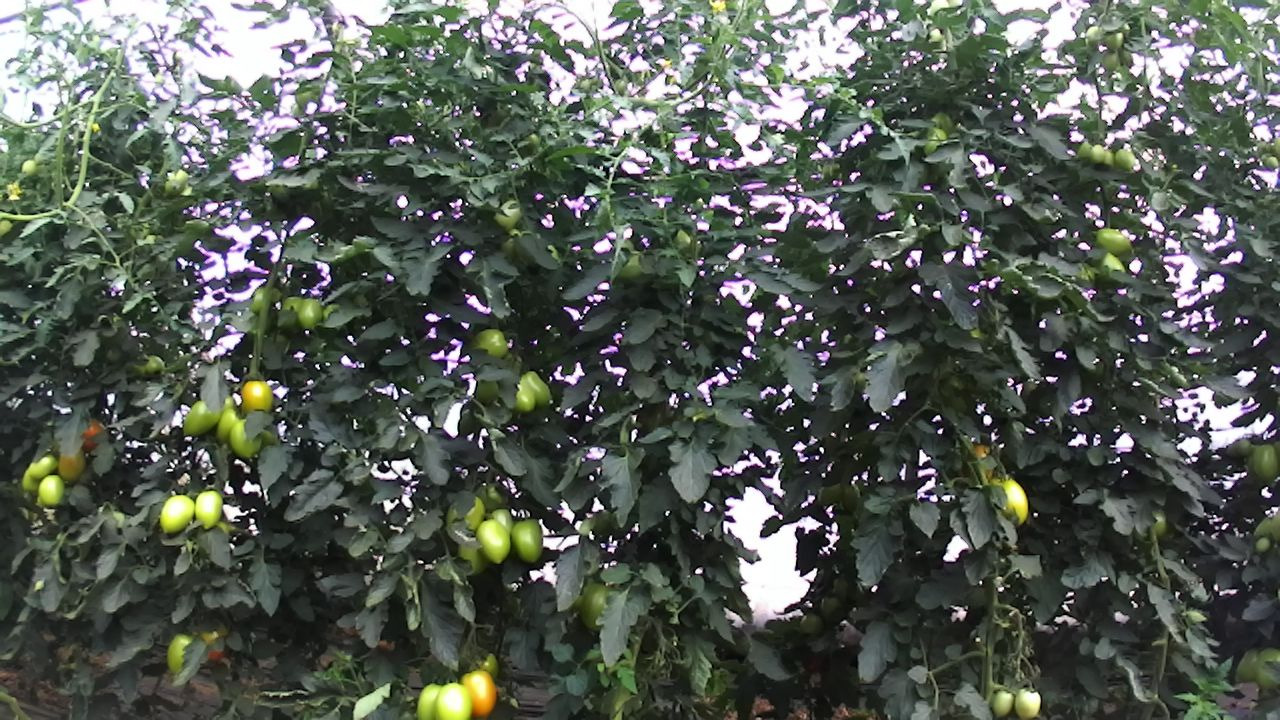tomato: (989, 470, 1031, 526), (573, 582, 616, 636), (458, 668, 499, 720), (472, 516, 512, 565), (163, 628, 201, 678), (508, 515, 545, 565), (180, 397, 223, 439), (226, 418, 264, 465), (157, 492, 196, 536), (432, 680, 473, 720), (464, 325, 512, 358), (519, 365, 554, 409), (412, 677, 447, 720), (239, 376, 274, 417), (192, 488, 224, 531), (510, 375, 542, 417), (1095, 226, 1135, 258), (1248, 441, 1280, 480), (35, 471, 66, 508), (1012, 684, 1042, 720), (295, 295, 325, 331), (26, 451, 60, 480), (991, 688, 1016, 718), (1113, 147, 1136, 171), (1088, 142, 1107, 164)
